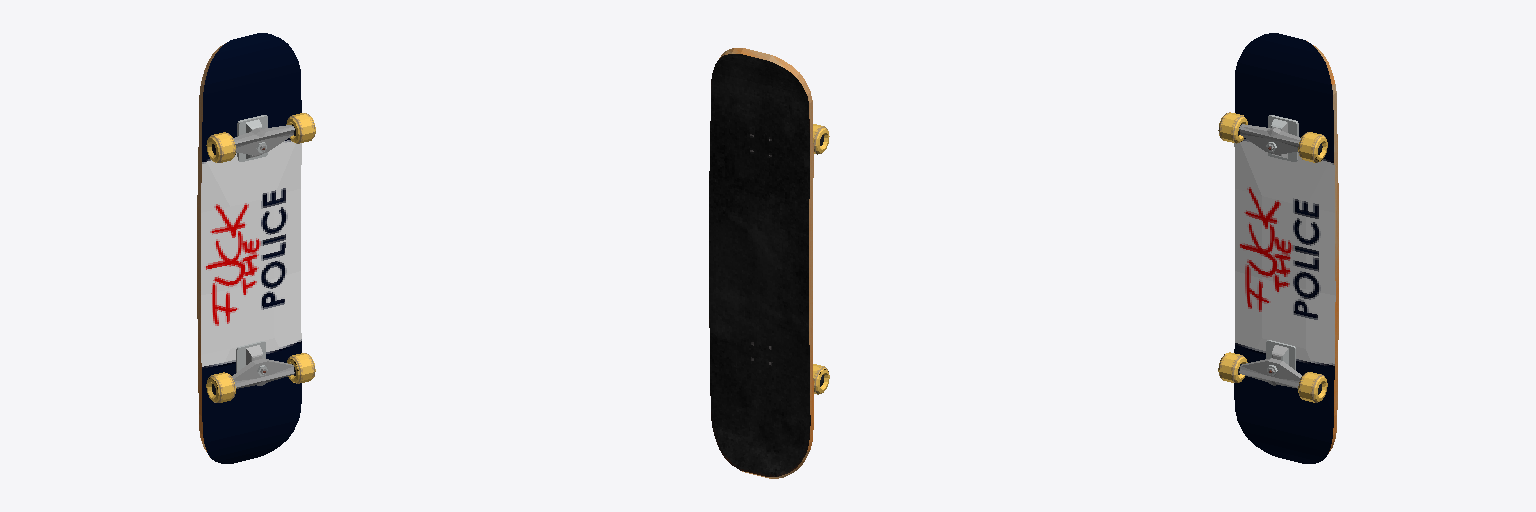
3 renders of one model, left to right at view 1: azimuth 30°, elevation 25°; view 2: azimuth 150°, elevation 25°; view 3: azimuth 330°, elevation 25°, orthographic.
Visible parts, largest first — view 1: SkateBoard_02; view 2: SkateBoard_02; view 3: SkateBoard_02.
Part boxes in pixels (bbox=[...]): SkateBoard_02: bbox=[197, 33, 315, 463]; SkateBoard_02: bbox=[709, 48, 829, 478]; SkateBoard_02: bbox=[1218, 33, 1338, 463].
Size of the model in its own units: 0.3987 by 1.61 by 0.183.
1 materials, 1 textured.